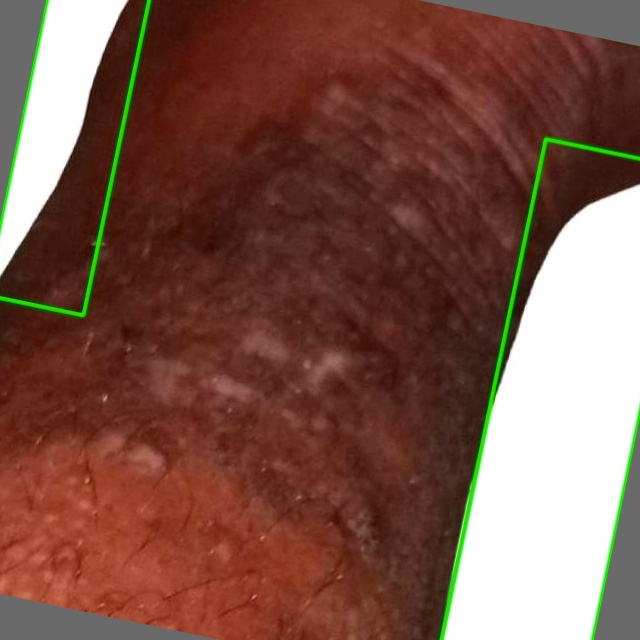Eczema: (440, 137, 639, 639), (0, 0, 149, 315)
